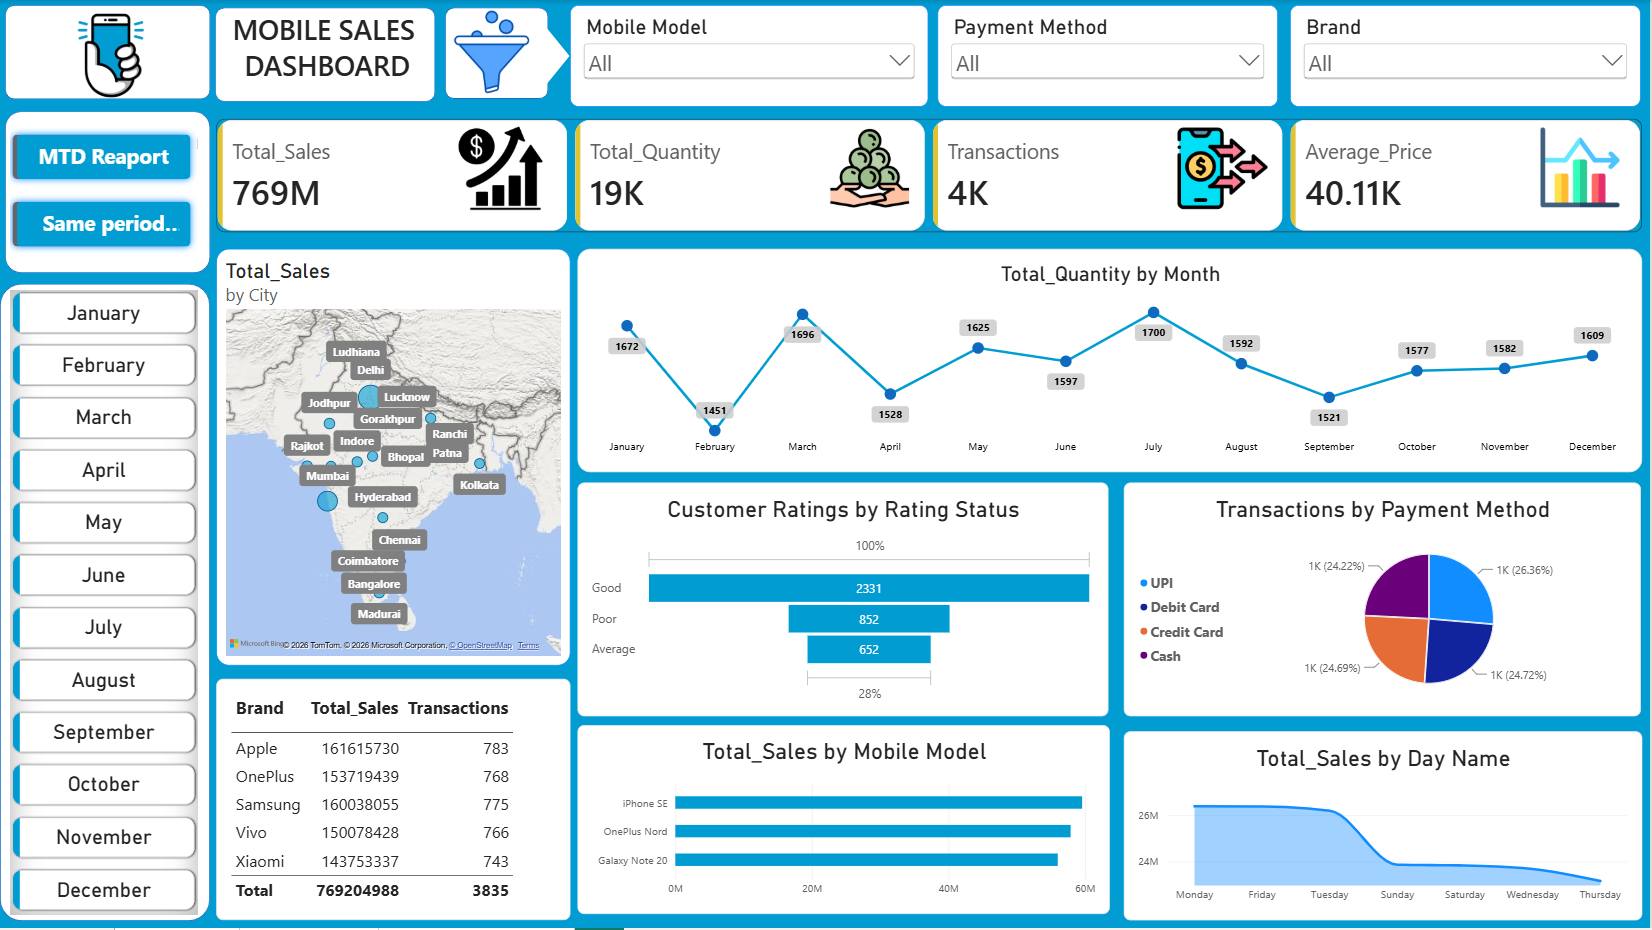

Layout of this report page (visuals, bound fields, positions):
{"tool":"powerbi","page":{"name":"Dashboard","canvas":[1920,1080],"ordinal":0},"visuals":[{"type":"shape","box":[5.2,5.2,239,109.9],"z":0},{"type":"image","box":[41.7,0,173.3,128.3],"z":1000},{"type":"shape","box":[5.2,129.1,239,188.4],"z":2000},{"type":"shape","box":[0,329.7,244.2,741.3],"z":3000},{"type":"advancedSlicerVisual","fields":{"Values":["Custom_Calendar.Date.Variation.Date Hierarchy.Month"]},"box":[12.2,336.6,218,727.3],"z":4000},{"type":"cardVisual","fields":{"Data":["Sales_Data.Total_Sales","Sales_Data.Total_Quantity","Sales_Data.Transactions","Sales_Data.Average"]},"box":[251.2,137.8,1658.7,132.6],"z":5000},{"type":"image","box":[528.5,146.5,108.1,97.7],"z":6000},{"type":"image","box":[959.3,146.5,104.7,97.7],"z":7000},{"type":"image","box":[1369.2,137.8,104.7,115.1],"z":8000},{"type":"image","box":[1786.1,148.3,104.7,92.4],"z":9000},{"type":"slicer","fields":{"Values":["Sales_Data.Mobile Model"]},"box":[662.8,5.2,416.9,118.6],"z":10000},{"type":"slicer","fields":{"Values":["Sales_Data.Payment Method"]},"box":[1090.1,5.2,395.9,118.6],"z":11000},{"type":"slicer","fields":{"Values":["Sales_Data.Brand"]},"box":[1500,5.2,408.1,118.6],"z":12000},{"type":"shape","box":[518,8.7,120.3,106.4],"z":13000},{"type":"shape","box":[594.8,22.7,68,83.7],"z":14000},{"type":"image","box":[518,12.2,108.1,97.7],"z":15000},{"type":"shape","box":[249.4,8.7,256.4,109.9],"z":16000},{"type":"textbox","box":[270.3,12.2,219.8,94.2],"z":17000},{"type":"map","fields":{"Category":["Sales_Data.City"],"Size":["Sales_Data.Total_Sales"]},"box":[251.2,289.5,411.6,484.9],"z":18000},{"type":"lineChart","title":"Total_Quantity by Month","fields":{"Category":["Custom_Calendar.Date.Variation.Date Hierarchy.Month"],"Y":["Sales_Data.Total_Quantity"]},"box":[671.4,290,1238.6,260],"z":19000},{"type":"funnel","title":" Customer Ratings by Rating Status","fields":{"Category":["Sales_Data.Rating Status"],"Y":["CountNonNull(Sales_Data.Customer Ratings)"]},"box":[671.5,561.6,617.4,272.1],"z":20000},{"type":"pieChart","title":"Transactions by Payment Method","fields":{"Category":["Sales_Data.Payment Method"],"Y":["Sales_Data.Transactions"]},"box":[1306.4,561.6,601.7,272.1],"z":21000},{"type":"clusteredBarChart","title":"Total_Sales by Mobile Model","fields":{"Category":["Sales_Data.Mobile Model"],"Y":["Sales_Data.Total_Sales"]},"box":[671,843.9,619.6,220.2],"z":22000},{"type":"areaChart","fields":{"Category":["Custom_Calendar.Day Name"],"Y":["Sales_Data.Total_Sales"]},"box":[1307,850.1,603.1,220.2],"z":23000},{"type":"tableEx","fields":{"Values":["Sales_Data.Brand","Sales_Data.Total_Sales","Sales_Data.Transactions"]},"box":[251.2,790.1,411.6,280.8],"z":24000},{"type":"pageNavigator","box":[12.2,148.3,218,146.5],"z":25000}]}

Visuals, with their boxes in screenshot pixels (x1, y1, x2, y2), scaled from the page's 1920x1080 canvas onto the 1652x930 screenshot:
shape: [x1=4, y1=4, x2=210, y2=99]
image: [x1=36, y1=0, x2=185, y2=110]
shape: [x1=4, y1=111, x2=210, y2=273]
shape: [x1=0, y1=284, x2=210, y2=922]
advancedSlicerVisual - Custom_Calendar.Date.Variation.Date Hierarchy.Month: [x1=10, y1=290, x2=198, y2=916]
cardVisual - Sales_Data.Total_Sales x Sales_Data.Total_Quantity: [x1=216, y1=119, x2=1643, y2=233]
image: [x1=455, y1=126, x2=548, y2=210]
image: [x1=825, y1=126, x2=915, y2=210]
image: [x1=1178, y1=119, x2=1268, y2=218]
image: [x1=1537, y1=128, x2=1627, y2=207]
slicer - Sales_Data.Mobile Model: [x1=570, y1=4, x2=929, y2=107]
slicer - Sales_Data.Payment Method: [x1=938, y1=4, x2=1279, y2=107]
slicer - Sales_Data.Brand: [x1=1291, y1=4, x2=1642, y2=107]
shape: [x1=446, y1=7, x2=549, y2=99]
shape: [x1=512, y1=20, x2=570, y2=92]
image: [x1=446, y1=11, x2=539, y2=95]
shape: [x1=215, y1=7, x2=435, y2=102]
textbox: [x1=233, y1=11, x2=422, y2=92]
map - Sales_Data.City x Sales_Data.Total_Sales: [x1=216, y1=249, x2=570, y2=667]
"Total_Quantity by Month" lineChart: [x1=578, y1=250, x2=1643, y2=474]
" Customer Ratings by Rating Status" funnel: [x1=578, y1=484, x2=1109, y2=718]
"Transactions by Payment Method" pieChart: [x1=1124, y1=484, x2=1642, y2=718]
"Total_Sales by Mobile Model" clusteredBarChart: [x1=577, y1=727, x2=1110, y2=916]
areaChart - Custom_Calendar.Day Name x Sales_Data.Total_Sales: [x1=1125, y1=732, x2=1643, y2=922]
tableEx - Sales_Data.Brand x Sales_Data.Total_Sales: [x1=216, y1=680, x2=570, y2=922]
pageNavigator: [x1=10, y1=128, x2=198, y2=254]
